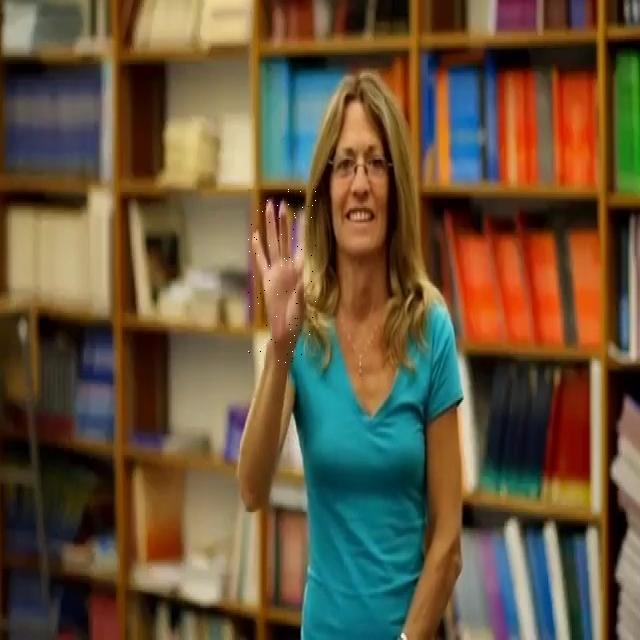french fries: (248, 190, 316, 363)
